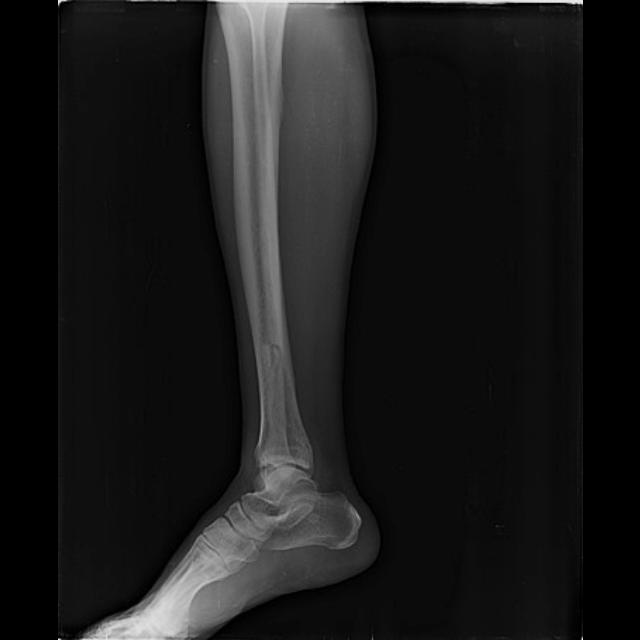Fracture: (254, 327, 286, 365)
